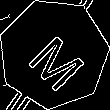M_NE: (19, 19, 88, 88)
